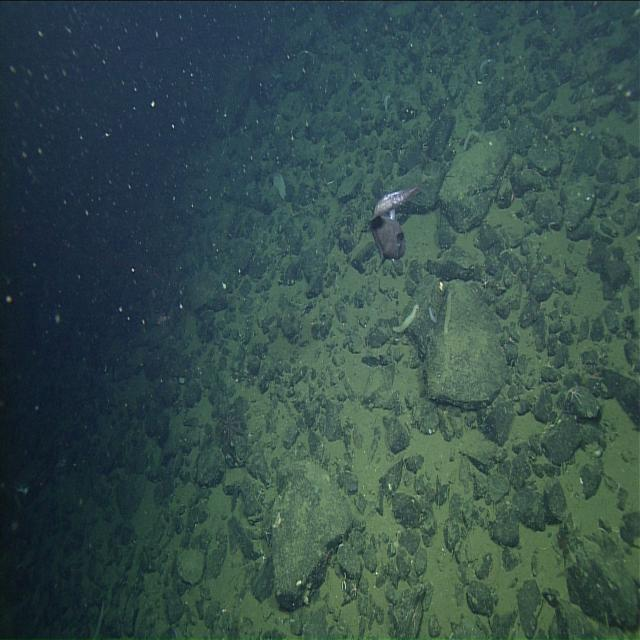Brittle Star: (349, 577, 361, 600)
Not Brittle Star: (365, 172, 429, 273), (216, 404, 246, 445), (393, 299, 421, 336), (154, 307, 174, 329)
